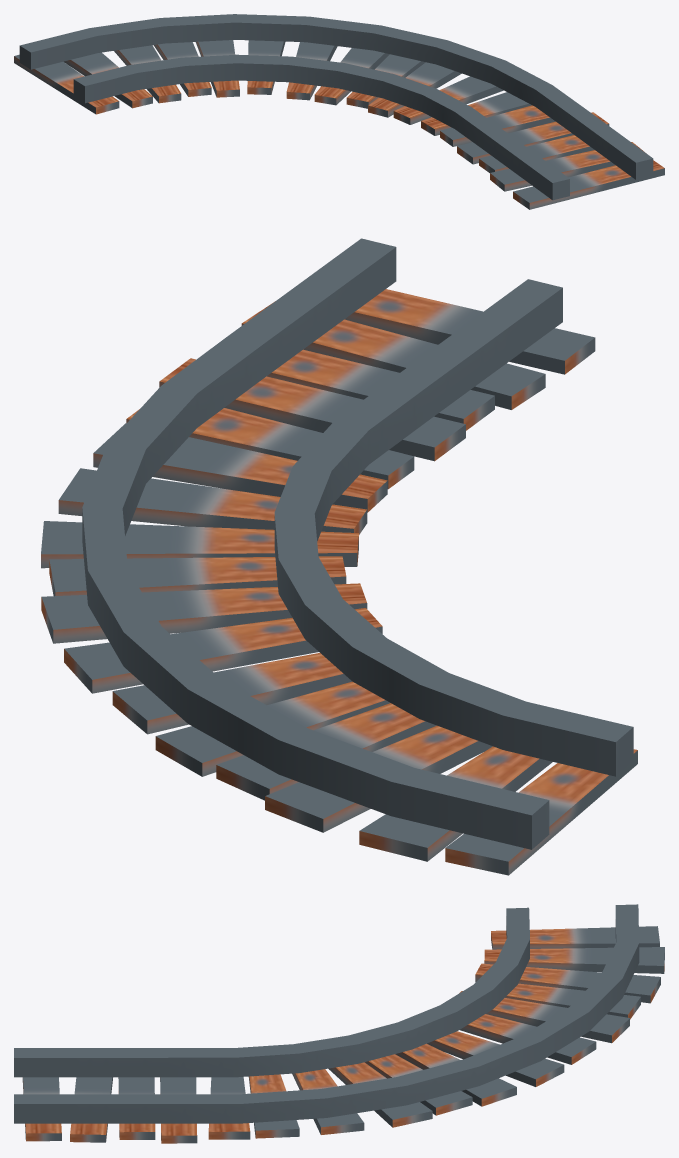
The model's file is long_turn_l_2.fbx.
3 views of the same model, one above another, from view 1: azimuth 30°, elevation 25°; view 2: azimuth 150°, elevation 25°; view 3: azimuth 270°, elevation 25° (orthographic). The views are drawn at different scales.
Visible parts, largest first — view 1: long_turn_l_2; view 2: long_turn_l_2; view 3: long_turn_l_2.
Part boxes in pixels (left/top/right/bottom): long_turn_l_2: left=14, top=14, right=664, bottom=209; long_turn_l_2: left=41, top=238, right=637, bottom=875; long_turn_l_2: left=14, top=904, right=664, bottom=1143.
Bounding box in the file's own units: 33.79 × 2.08 × 44.03.
